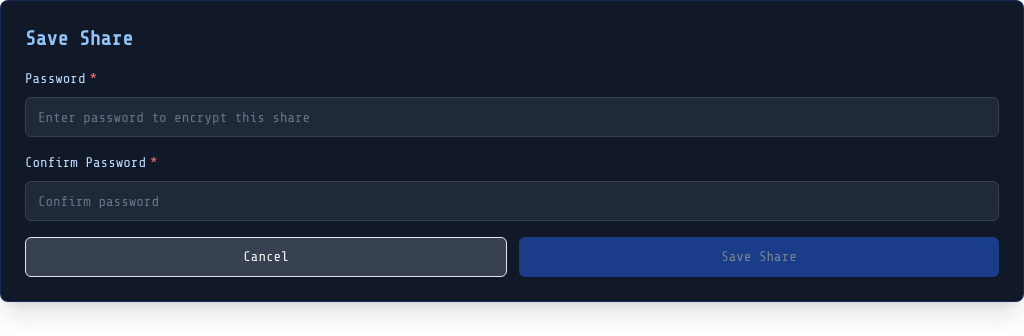
SaveShare Component › Basic Functionality › should show loading state while encrypting
Type "TestPassword123!" into the password field with placeholder "Enter password to encrypt this share" at (512, 117), box [25, 97, 999, 137]
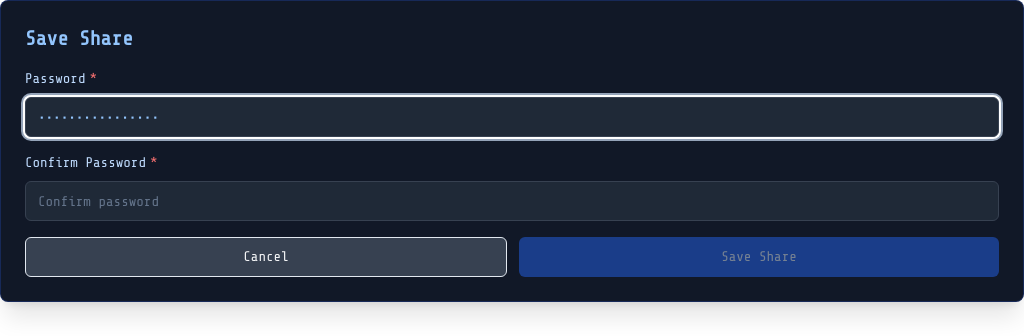
Type "TestPassword123!" into the password field with placeholder "Confirm Password" at (512, 201), box [25, 181, 999, 221]
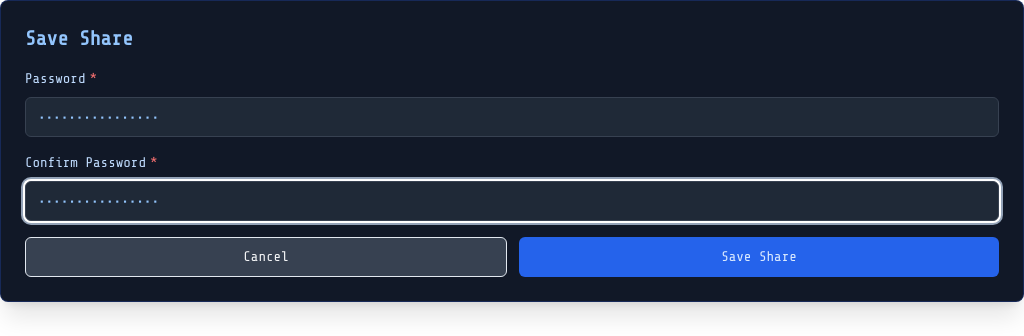
Click the button "Save Share" at (759, 257), box [519, 237, 999, 277]
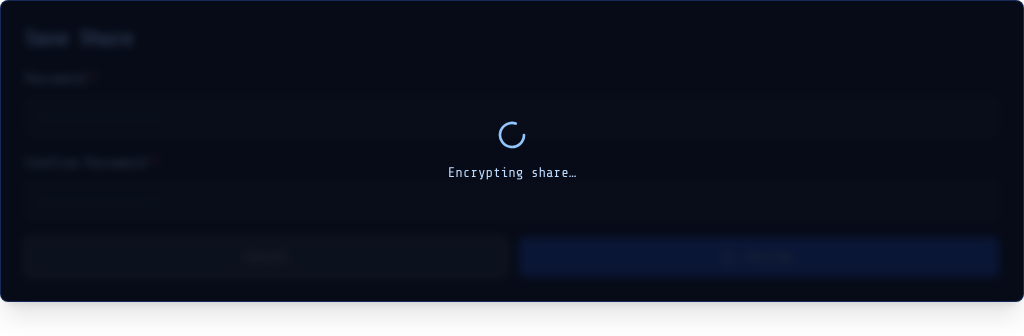
Expected: the text "Encrypting share…" is shown, [448, 163, 576, 183]
